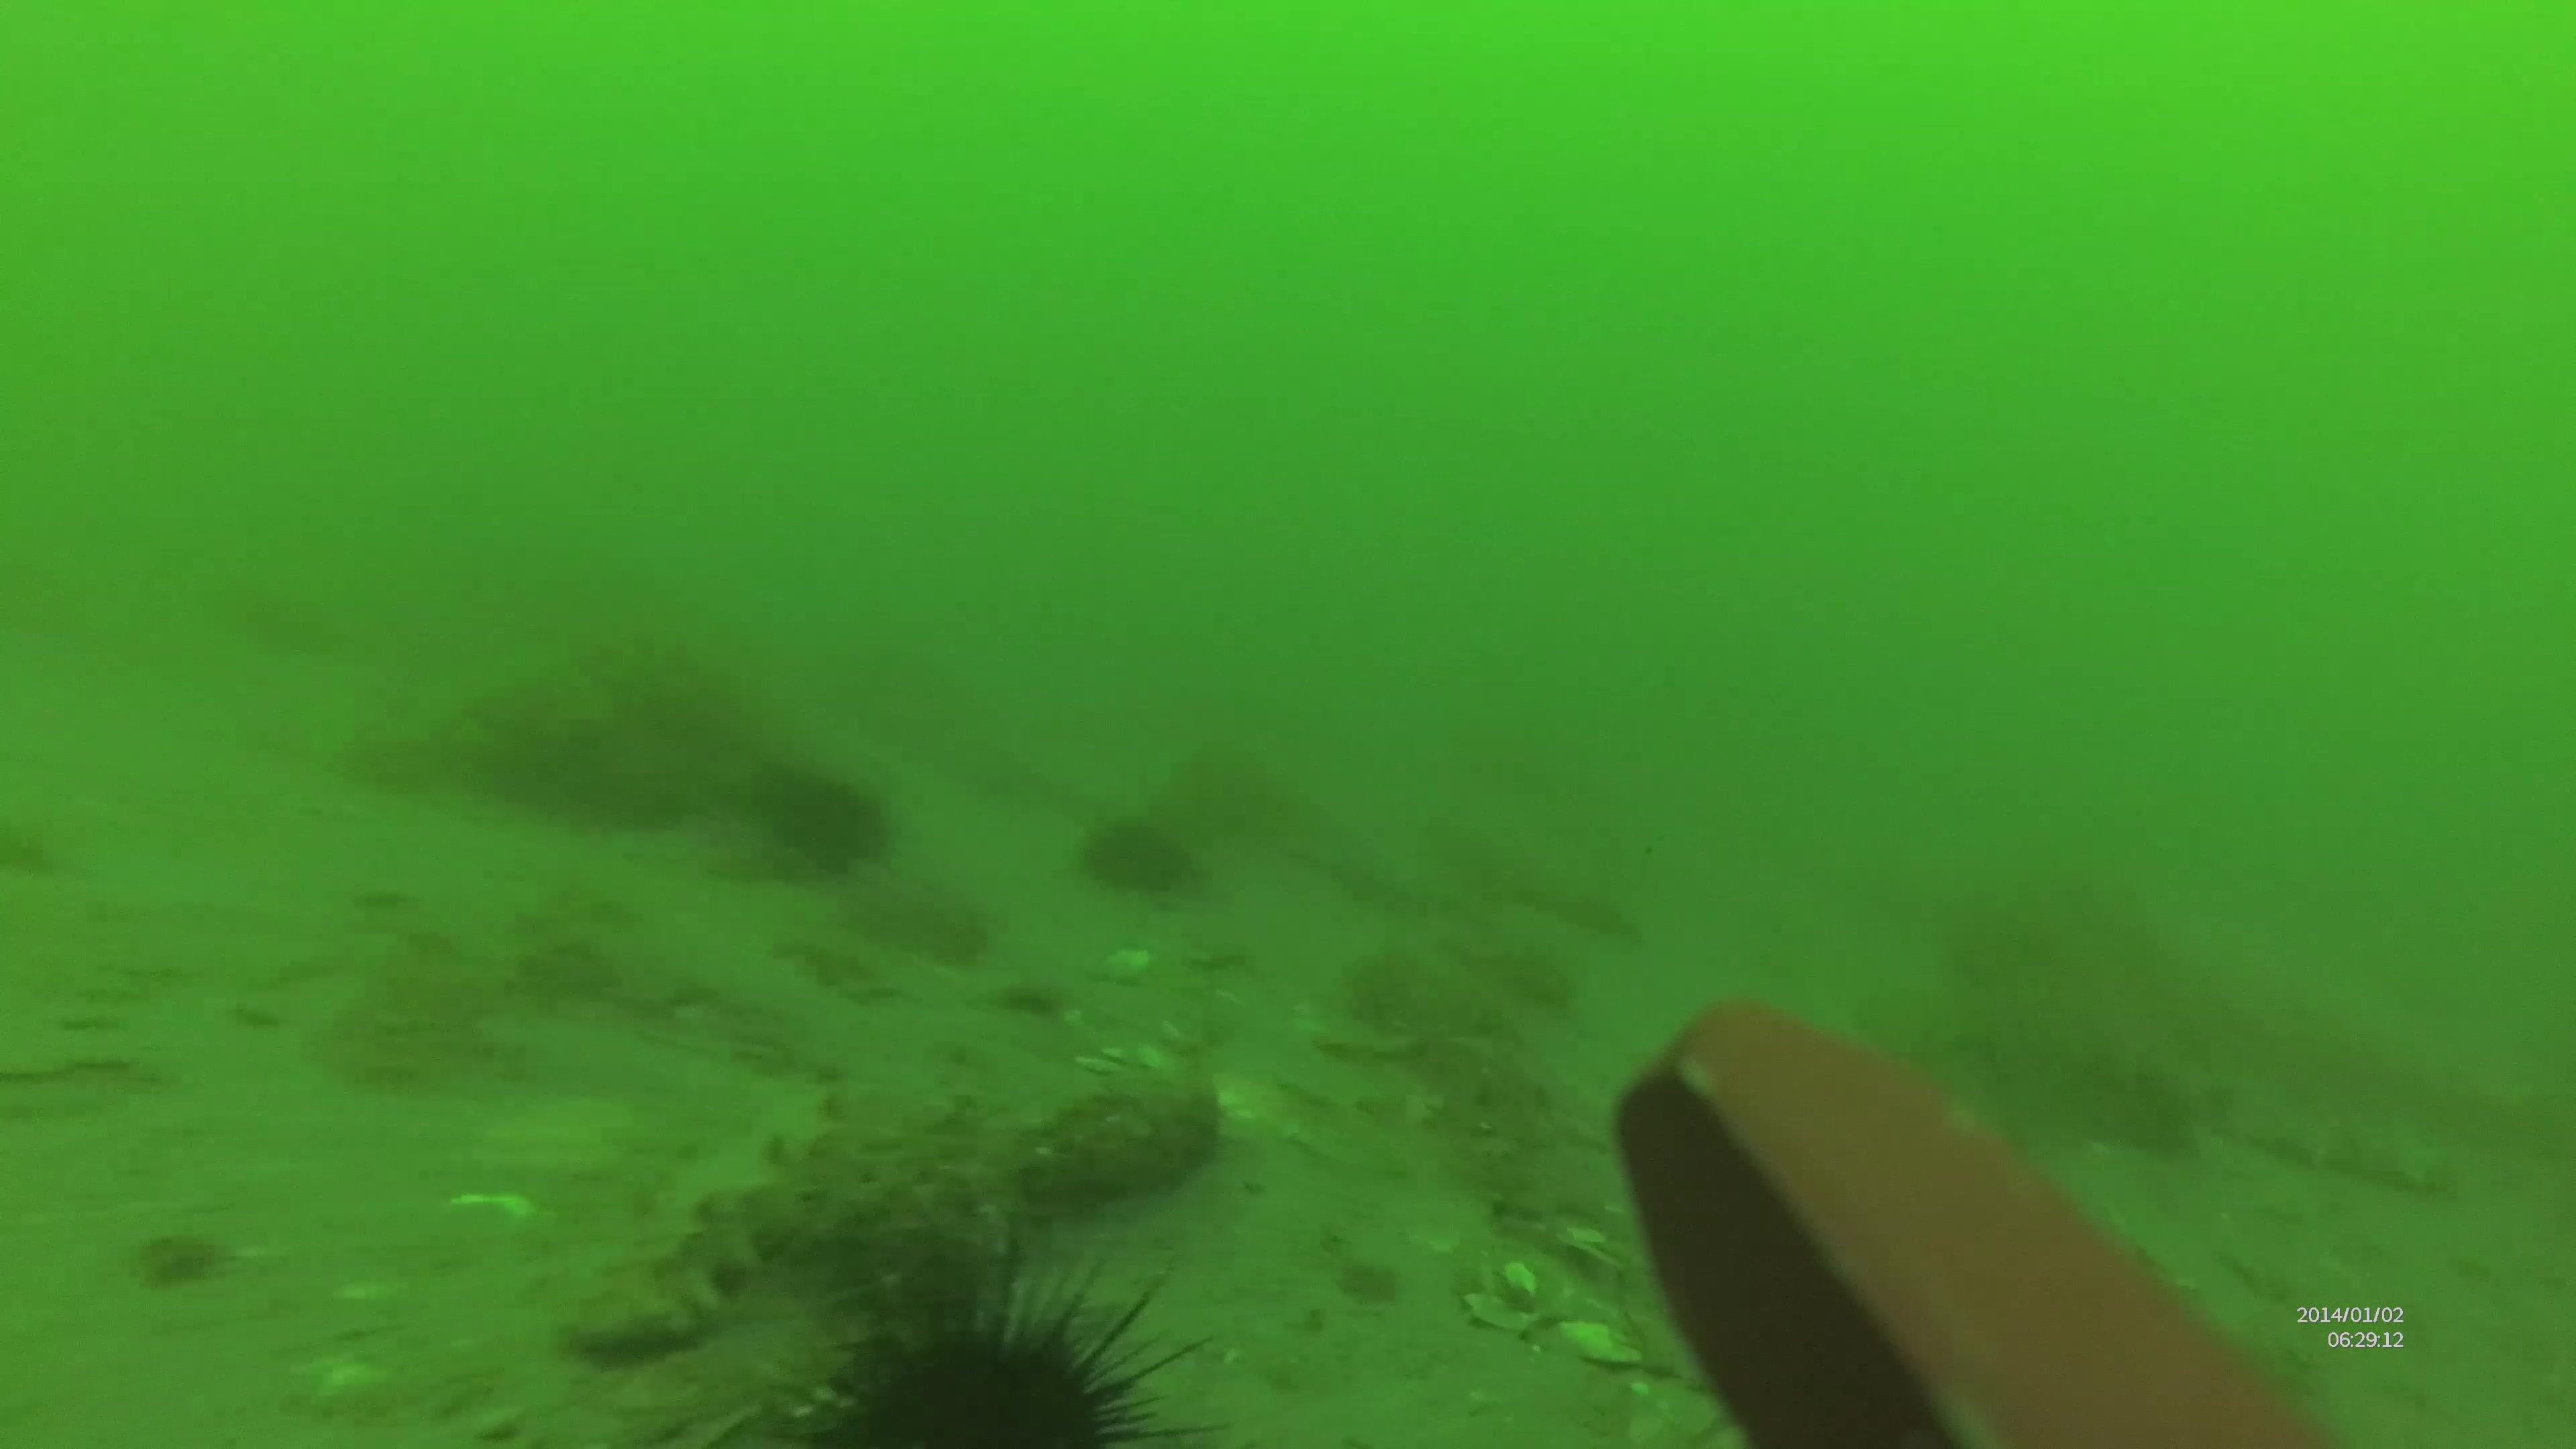echinus: (736, 1256, 1162, 1449), (748, 771, 897, 879), (1069, 817, 1210, 906)
